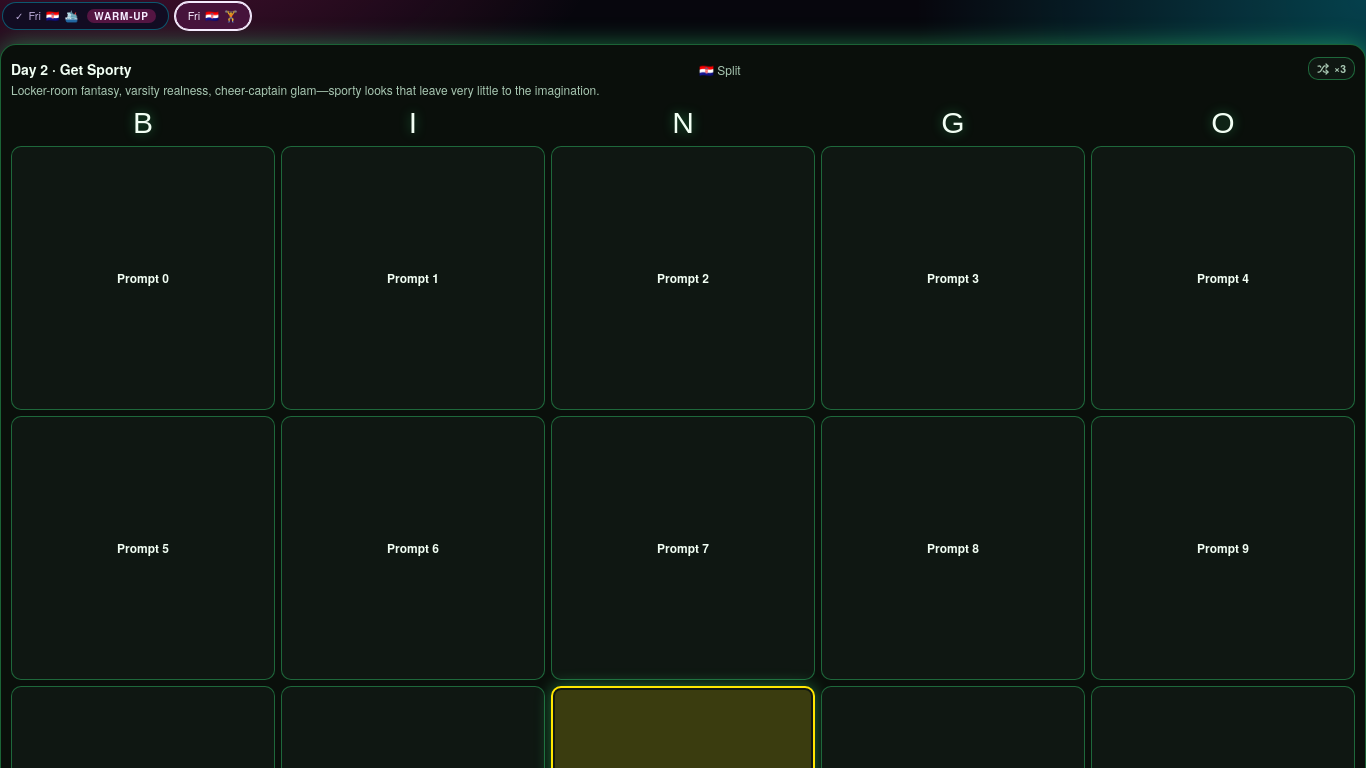
the chip opens the confirm sheet › Keep my card closes the sheet and writes nothing
Click the button with class "reshuf". click: (1332, 68)
box: [1308,57,1355,80]
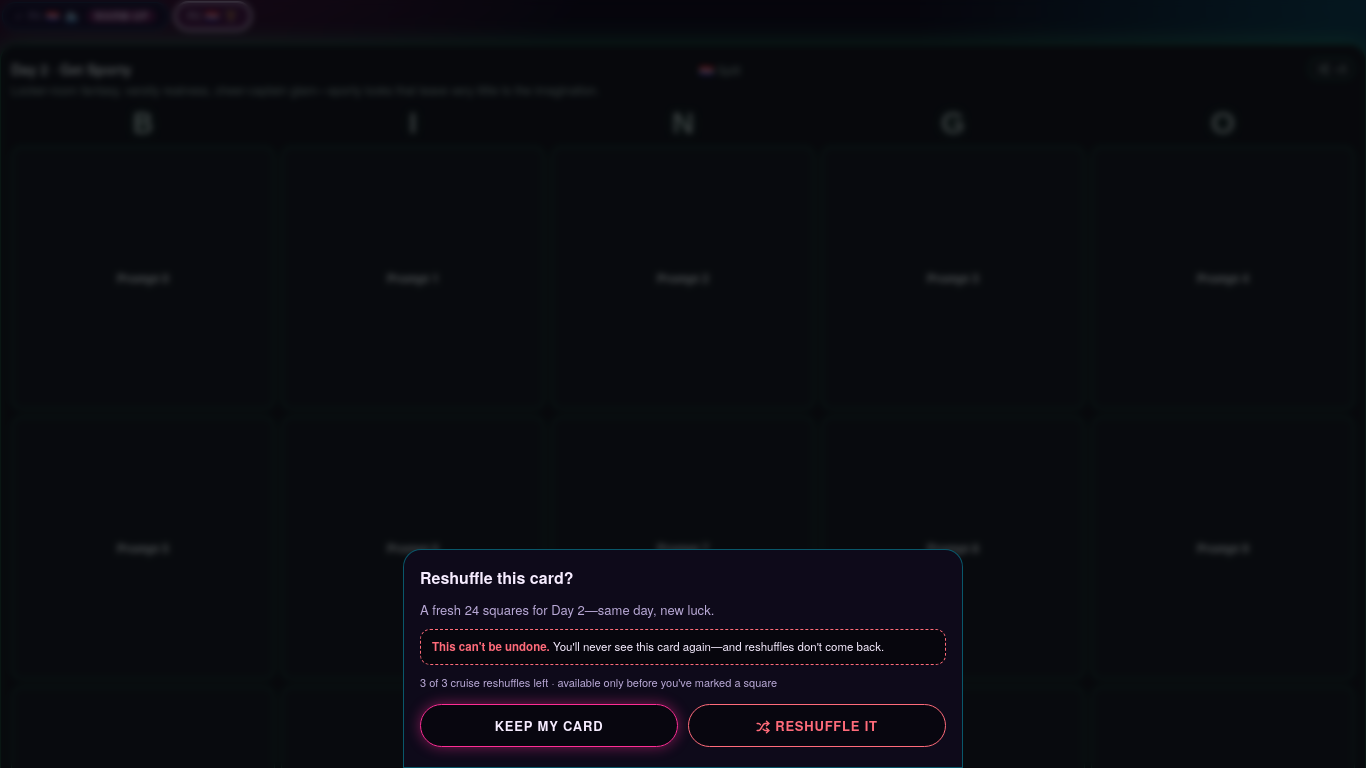
Click the button "Keep my card". click: (549, 726)
box: [420,704,678,747]
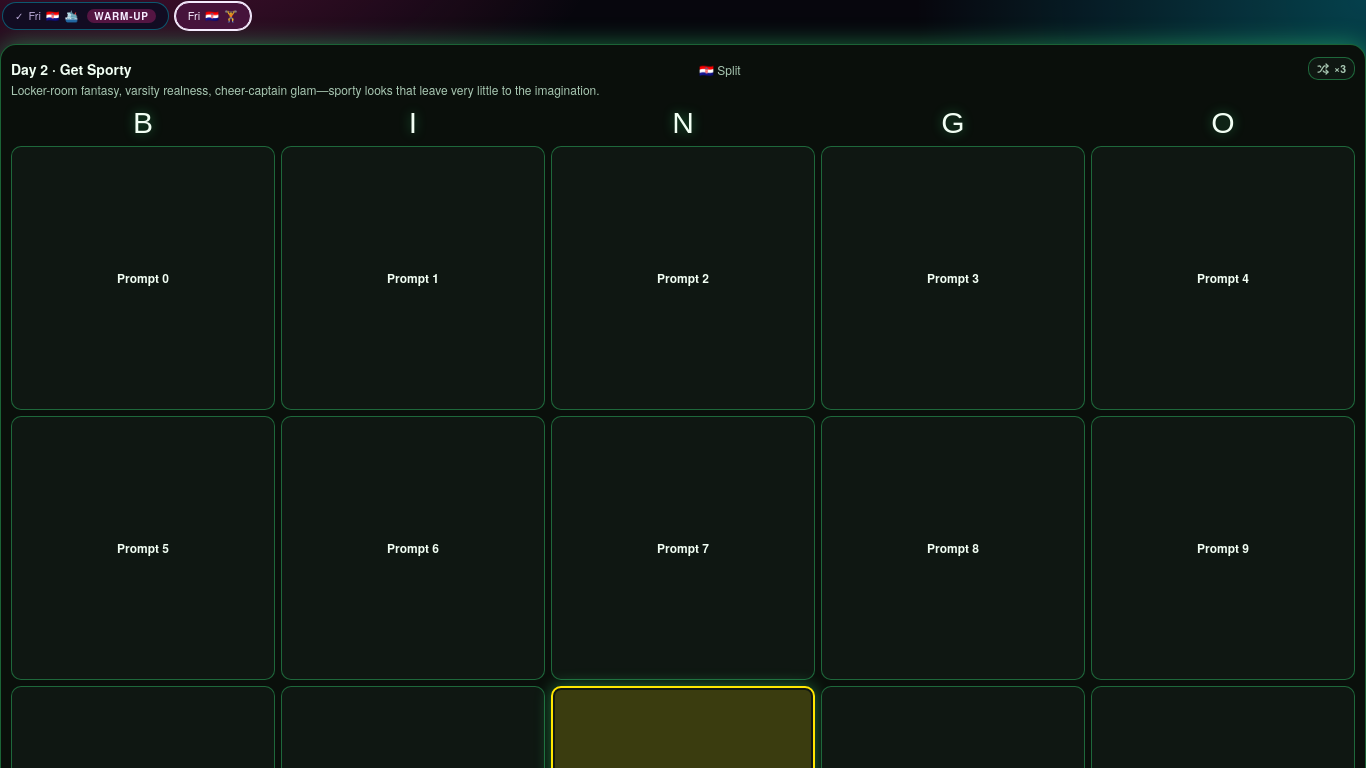
Expected: the text "Reshuffle this card?" is gone
